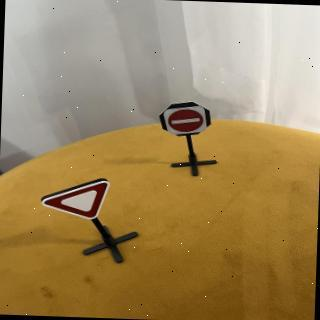sign_noentry: (163, 104, 210, 138)
sign_yield: (42, 178, 116, 222)
